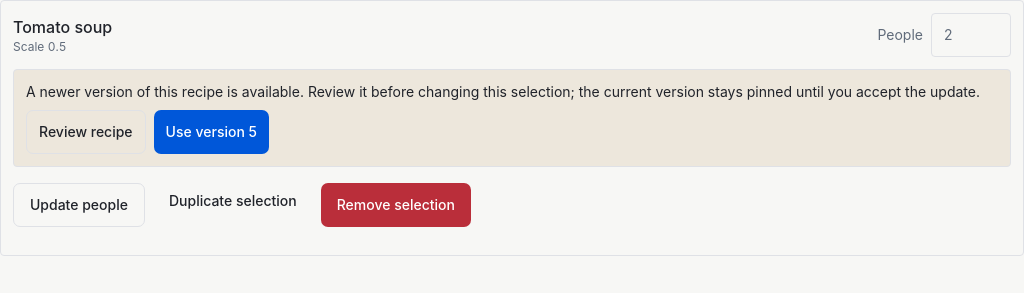
Test: SelectionPeopleForm › keeps the pinned version until the member explicitly accepts an update
The width and height of the screenshot is (1024, 293).
Expected: the text "current version stays pinned until you accept the update" is shown, x1=26 y1=83 x2=980 y2=100
Click the button "Use version 5" at (211, 132), box x1=154 y1=110 x2=269 y2=154
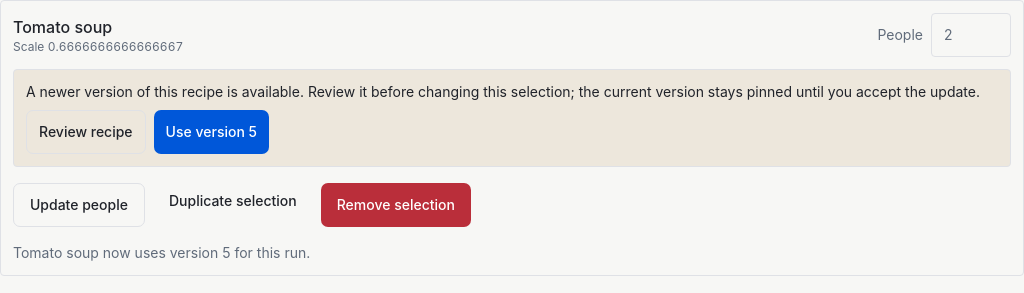
Result: the text "Tomato soup now uses version 5 for this run." is shown at x1=13 y1=244 x2=310 y2=261
